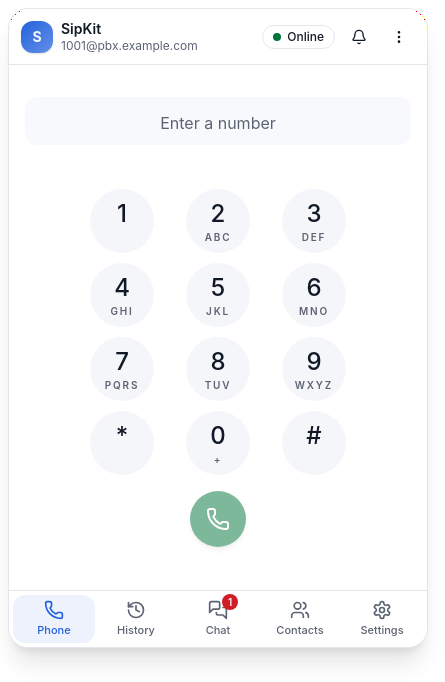
Chat tab › starts a conversation, sends with delivery status, receives with unread badge
This screenshot has width=445, height=682.
Later steps or results of the test are not shown.
What coordinates should you click on to do the following:
click the tab "1 Chat"
I would click on:
 (218, 619)
Its box is [177,595,259,643].
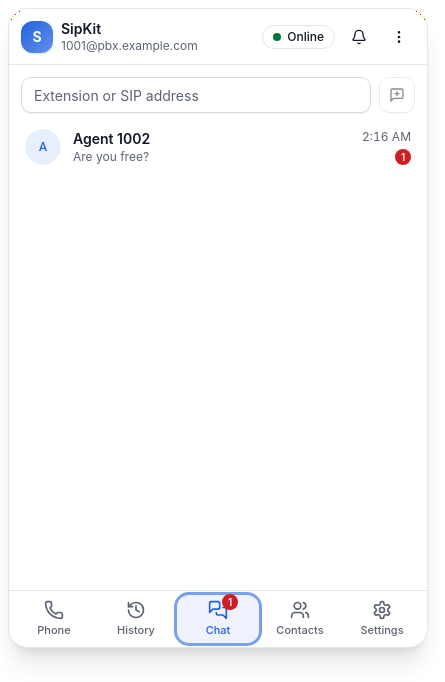
Result: the button with test id "chat-conversation" shows "Agent 1002" at [17,121,419,173]
Result: the button with test id "chat-conversation" shows "Are you free?" at [17,121,419,173]
